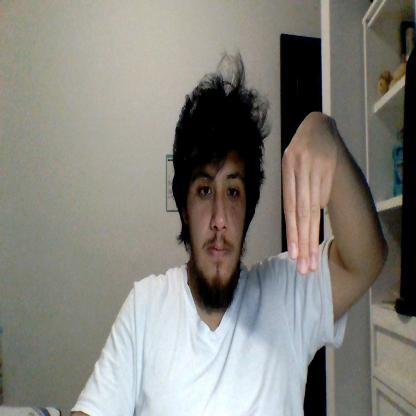M: (282, 111, 338, 274)
